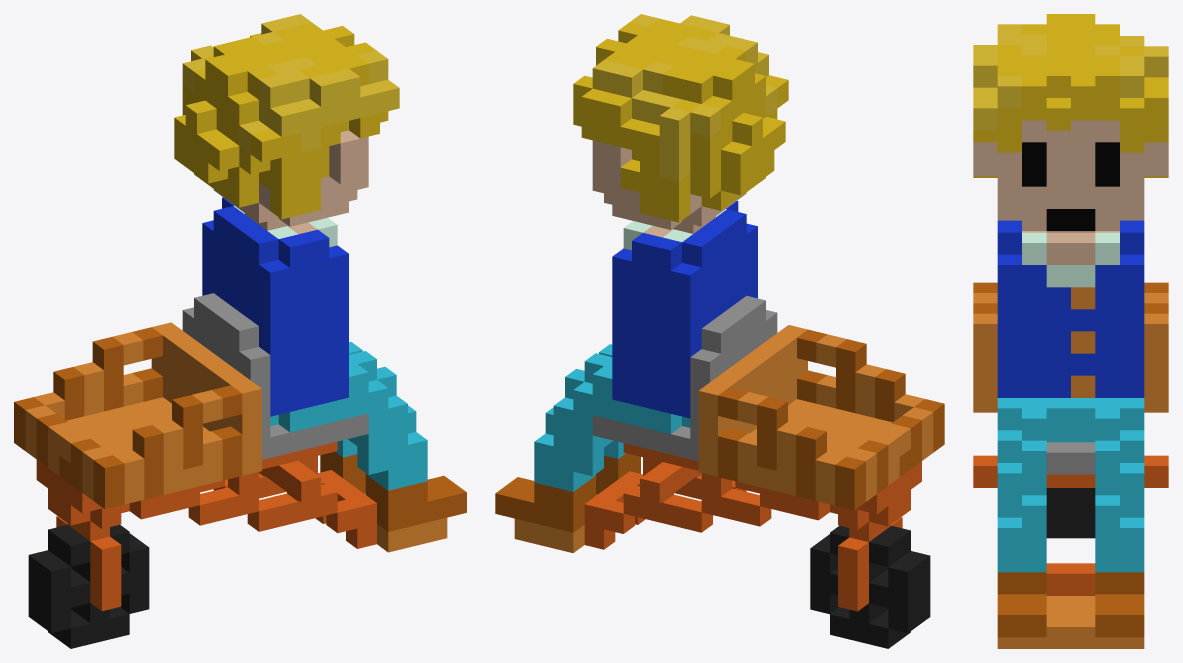
The model's file is player.obj.
3 renders of one model, left to right at view 1: azimuth 30°, elevation 25°; view 2: azimuth 150°, elevation 25°; view 3: azimuth 270°, elevation 25°, orthographic. The views are drawn at different scales.
Size of the model in its own units: 2 by 2.6 by 0.8.
Materials: 1 (1 with a texture image).
